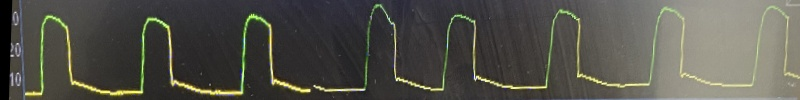normal_pressure: (28, 0, 795, 100)
